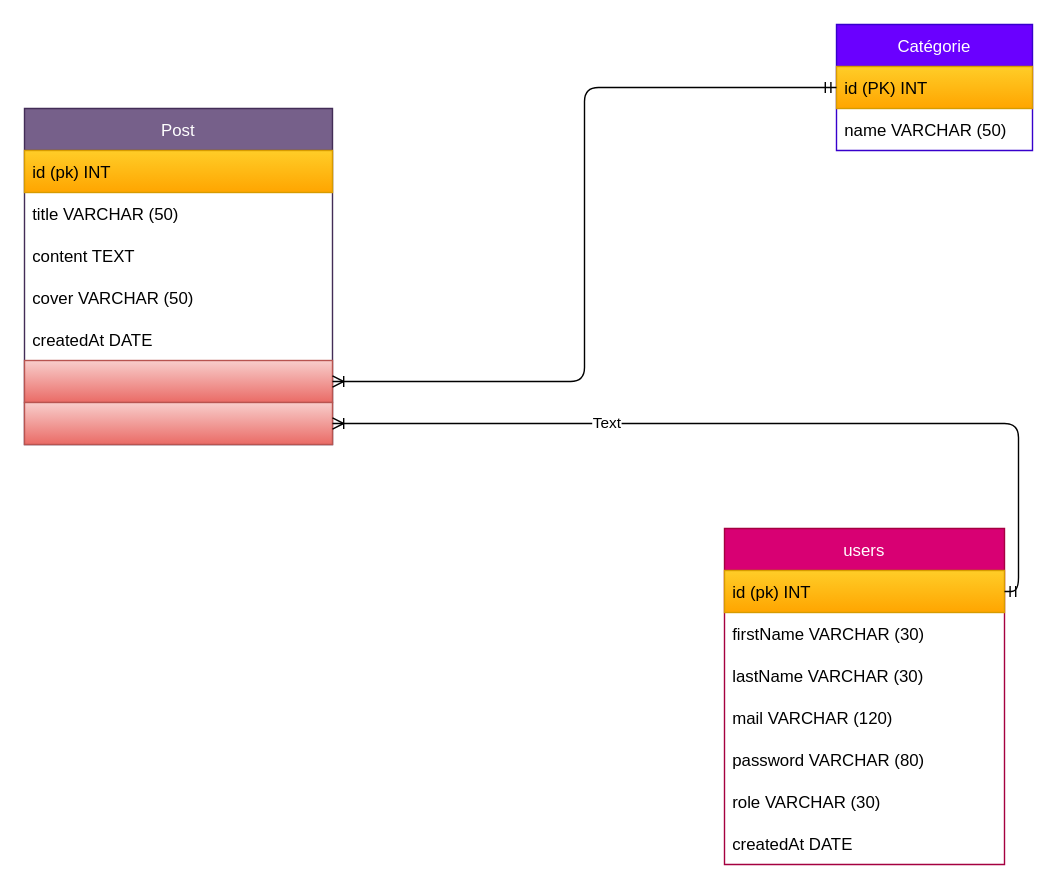
Some shapes in this 1057 by 889 pixel diagram are drawn without their labels. Here are the shapes that lost their labels. From the top down, the centre of each, then its label:
At [177,380]: "categories_id INT (fk)".
At [177,422]: "users_id INT (fk)".
